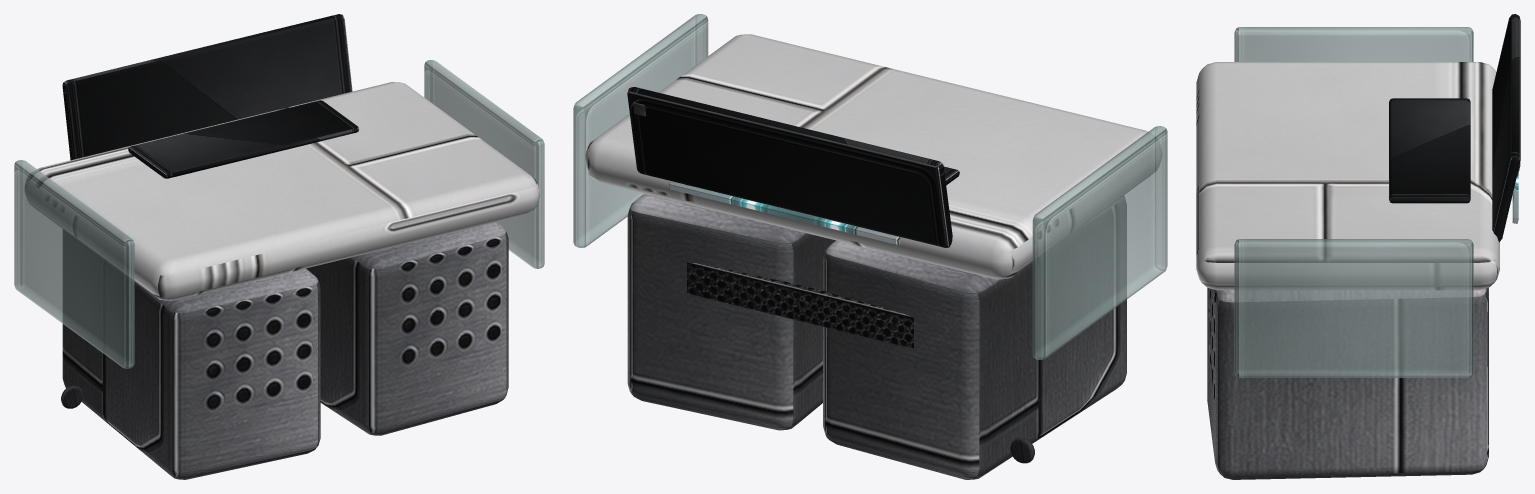
The model's file is hp_l4_cineclinic_observation_desk.glb.
The picture shows the model from 3 angles, left to right: view 1: azimuth 30°, elevation 25°; view 2: azimuth 150°, elevation 25°; view 3: azimuth 270°, elevation 25°; orthographic projection. The views are drawn at different scales.
Parts seen in each view (by area): view 1: white_wrap_top, crescent_base_left, crescent_base_right, main_runtime_screen, frosted_side_wing_l, desk_keyboard_black_glass, frosted_side_wing_r; view 2: crescent_base_left, white_wrap_top, crescent_base_right, main_runtime_screen, frosted_side_wing_l, frosted_side_wing_r, under_desk_shadow_gap, screen_cyan_lower_rule; view 3: white_wrap_top, crescent_base_right, frosted_side_wing_r, desk_keyboard_black_glass, frosted_side_wing_l, main_runtime_screen.
Boxes of the visible parts, x1,y1,x2,y2 form: white_wrap_top: (25, 82, 539, 300); crescent_base_left: (62, 229, 320, 479); crescent_base_right: (306, 222, 508, 435); main_runtime_screen: (62, 14, 352, 160); frosted_side_wing_l: (14, 160, 134, 368); desk_keyboard_black_glass: (128, 100, 359, 178); frosted_side_wing_r: (424, 60, 544, 268); crescent_base_left: (823, 196, 1126, 479); white_wrap_top: (585, 34, 1161, 279); crescent_base_right: (627, 193, 835, 430); main_runtime_screen: (627, 87, 952, 247); frosted_side_wing_l: (1032, 126, 1167, 359); frosted_side_wing_r: (573, 14, 708, 247); under_desk_shadow_gap: (687, 262, 913, 347); screen_cyan_lower_rule: (669, 181, 900, 244); white_wrap_top: (1196, 62, 1499, 290); crescent_base_right: (1207, 288, 1488, 479); frosted_side_wing_r: (1234, 239, 1473, 377); desk_keyboard_black_glass: (1389, 98, 1470, 203); frosted_side_wing_l: (1234, 27, 1473, 61); main_runtime_screen: (1492, 14, 1520, 242).
Bounding box in the file's own units: 1.77 × 1.19 × 1.11.
8 materials, 8 textured.
